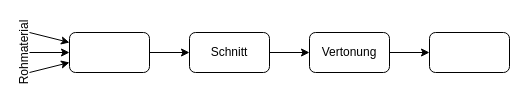
The diagram is 527 pixels wide and 104 high, and some of its shapes have lost their labels. The shapes that lost their labels are listed below. From the top down, each one's centre as x and y in pixels, then its label:
the point at 109,52: Ingest
the point at 469,52: Ausstrahlung
